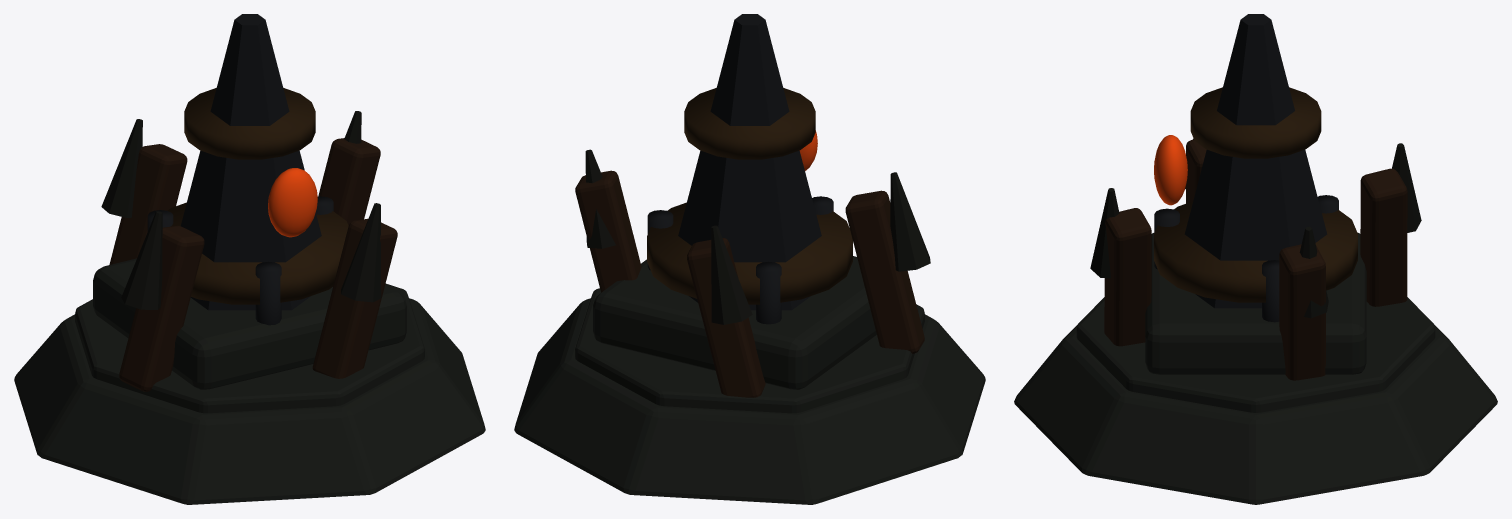
The model's file is TowerCorrupt1.obj.
3 renders of one model, left to right at view 1: azimuth 30°, elevation 25°; view 2: azimuth 150°, elevation 25°; view 3: azimuth 270°, elevation 25°, orthographic.
Visible parts, largest first — view 1: weathered_stone_dais_lower_course, dark_obelisk_core, blackstone_foot, weathered_stone_dais_upper_course, oak_ritual_brace.002, bronze_binding_ring, oak_ritual_brace.003, bronze_upper_ring, oak_ritual_brace.001, oak_ritual_brace, amber_runic_heart, bone_ward_spike.002 (+3 smaller); view 2: weathered_stone_dais_lower_course, dark_obelisk_core, blackstone_foot, weathered_stone_dais_upper_course, bronze_binding_ring, oak_ritual_brace.002, bronze_upper_ring, oak_ritual_brace.001, oak_ritual_brace, bone_ward_spike.001, bone_ward_spike.002, iron_tether.001 (+1 smaller); view 3: weathered_stone_dais_lower_course, dark_obelisk_core, blackstone_foot, weathered_stone_dais_upper_course, bronze_binding_ring, oak_ritual_brace.001, oak_ritual_brace.003, bronze_upper_ring, oak_ritual_brace, amber_runic_heart, bone_ward_spike.003, bone_ward_spike.001 (+3 smaller).
Boxes of the visible parts, box(x1,y1,x2,y2) form: weathered_stone_dais_lower_course: box(14, 298, 485, 504); dark_obelisk_core: box(181, 14, 321, 310); blackstone_foot: box(93, 258, 406, 389); weathered_stone_dais_upper_course: box(75, 284, 424, 413); oak_ritual_brace.002: box(119, 226, 204, 391); bronze_binding_ring: box(167, 202, 348, 304); oak_ritual_brace.003: box(312, 218, 397, 378); bronze_upper_ring: box(184, 88, 315, 159); oak_ritual_brace.001: box(109, 144, 187, 264); oak_ritual_brace: box(318, 138, 380, 225); amber_runic_heart: box(268, 168, 317, 237); bone_ward_spike.002: box(121, 211, 162, 309); weathered_stone_dais_lower_course: box(514, 298, 985, 504); dark_obelisk_core: box(678, 14, 821, 310); blackstone_foot: box(593, 256, 876, 389); weathered_stone_dais_upper_course: box(575, 288, 924, 413); bronze_binding_ring: box(647, 202, 852, 304); oak_ritual_brace.002: box(845, 190, 924, 353); bronze_upper_ring: box(684, 88, 815, 159); oak_ritual_brace.001: box(687, 238, 765, 397); oak_ritual_brace: box(575, 170, 641, 292); bone_ward_spike.001: box(711, 225, 752, 324); bone_ward_spike.002: box(890, 172, 930, 271); iron_tether.001: box(756, 261, 781, 324); weathered_stone_dais_lower_course: box(1014, 297, 1497, 504); dark_obelisk_core: box(1184, 14, 1327, 308); blackstone_foot: box(1145, 233, 1366, 374); weathered_stone_dais_upper_course: box(1076, 298, 1435, 412); bronze_binding_ring: box(1154, 201, 1357, 302); oak_ritual_brace.001: box(1360, 168, 1407, 306); oak_ritual_brace.003: box(1104, 208, 1151, 346); bronze_upper_ring: box(1190, 87, 1321, 158); oak_ritual_brace: box(1279, 244, 1325, 380); amber_runic_heart: box(1154, 135, 1187, 205); bone_ward_spike.003: box(1090, 188, 1119, 278); bone_ward_spike.001: box(1392, 143, 1421, 232).
Bounding box in the file's own units: 1.71 × 1.5 × 1.71.
